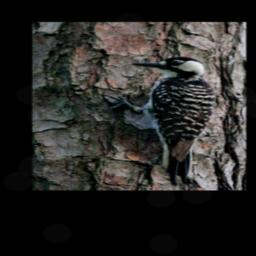Woodpecker: (97, 56, 221, 186)
